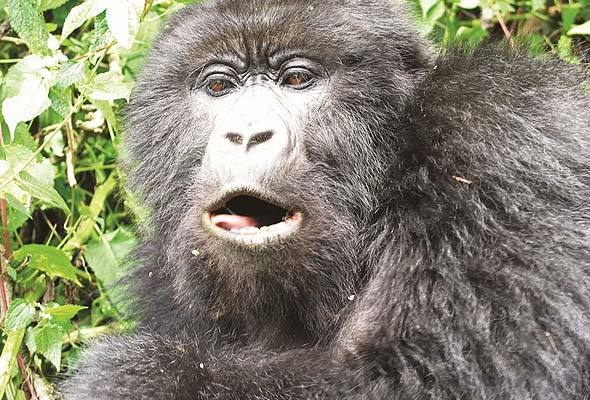Goriila: (124, 13, 590, 399)
